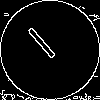I: (25, 25, 65, 69)
